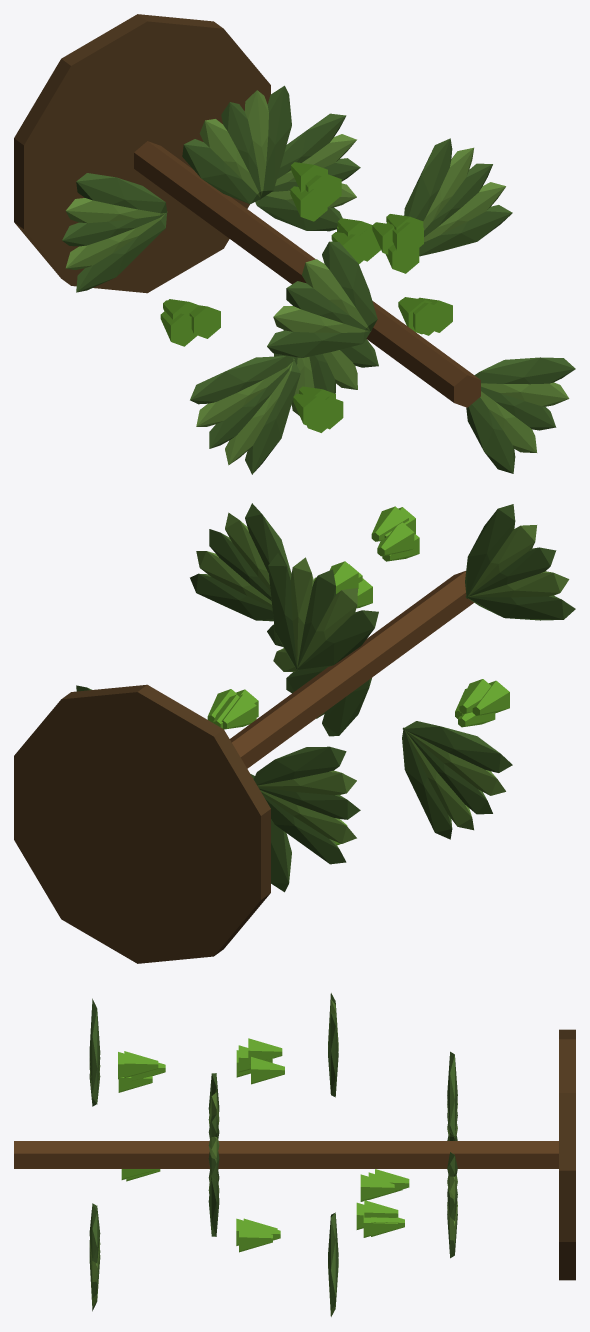
Rendered from 4_mature.obj.
The picture shows the model from 3 angles, top to bottom: view 1: azimuth 30°, elevation 25°; view 2: azimuth 150°, elevation 25°; view 3: azimuth 270°, elevation 25°; orthographic projection. The views are drawn at different scales.
Parts seen in each view (by area): view 1: yanillian_4_mature; view 2: yanillian_4_mature; view 3: yanillian_4_mature.
Part boxes in pixels (box(x1,y1,x2,y2)): yanillian_4_mature: box(14, 14, 575, 474); yanillian_4_mature: box(14, 503, 575, 963); yanillian_4_mature: box(14, 993, 575, 1316).
Bounding box in the file's own units: 0.3733 × 0.378 × 0.66.
